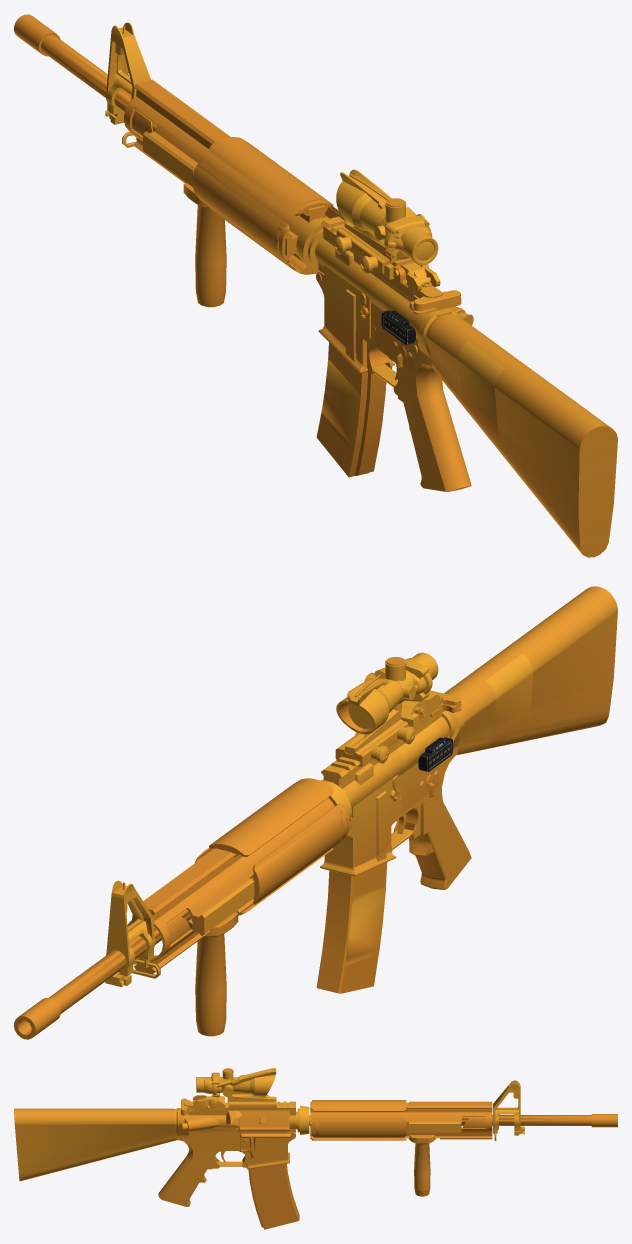
3 renders of one model, top to bottom at view 1: azimuth 30°, elevation 25°; view 2: azimuth 150°, elevation 25°; view 3: azimuth 270°, elevation 25°, orthographic. The views are drawn at different scales.
Parts seen in each view (by area): view 1: LOD_Template.001, Magazine1.001, Sight, Sticker4, Sticker1, Sticker2, Sticker3, Gunlock1.001, StatTrack.003; view 2: LOD_Template.001, Magazine1.001, Sight, Sticker4, Sticker1, Sticker2, Sticker3, StatTrack.003; view 3: LOD_Template.001, Magazine1.001, Sight.
Boxes of the visible parts, x1,y1,x2,y2 form: LOD_Template.001: (14,14,617,557); Magazine1.001: (316,342,386,477); Sight: (105,22,150,147); Sticker4: (457,341,505,436); Sticker1: (324,262,363,357); Sticker2: (320,358,360,452); Sticker3: (373,276,414,371); Gunlock1.001: (409,290,461,314); StatTrack.003: (381,310,415,344); LOD_Template.001: (14,586,617,1039); Magazine1.001: (316,862,387,993); Sight: (105,880,160,987); Sticker4: (485,653,533,747); Sticker1: (354,774,395,870); Sticker2: (345,887,385,965); Sticker3: (396,718,441,813); StatTrack.003: (418,737,452,771); LOD_Template.001: (14,1068,617,1206); Magazine1.001: (248,1163,299,1229); Sight: (493,1080,524,1141).
Size of the model in its own units: 0.0707 by 0.289 by 1.01.
Materials: 6 (6 with a texture image).
